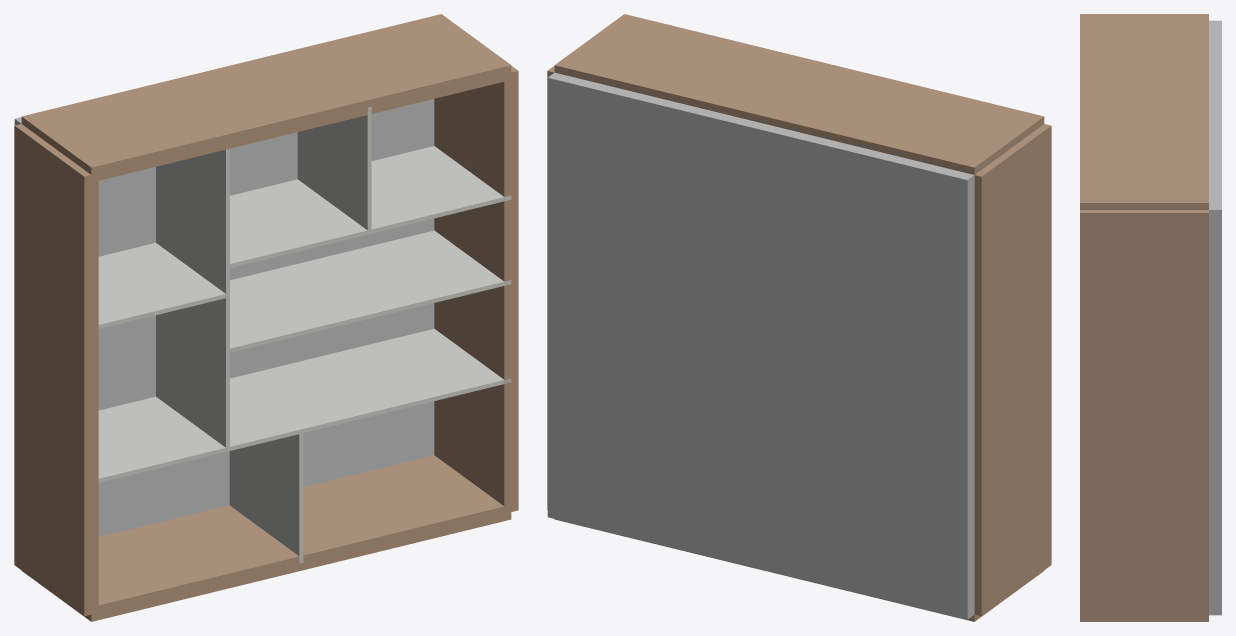
3 renders of one model, left to right at view 1: azimuth 30°, elevation 25°; view 2: azimuth 150°, elevation 25°; view 3: azimuth 270°, elevation 25°, orthographic. The views are drawn at different scales.
Visible parts, largest first — view 1: floor_slab, wall_3, wall_2, wall_0, wall_1, wall_5, wall_6, wall_12, wall_10, wall_8, wall_11, wall_13 (+5 smaller); view 2: floor_slab, wall_3, wall_2; view 3: wall_1, wall_2, floor_slab, wall_0.
Boxes of the visible parts, bbox=[...] form: floor_slab: bbox=[14, 99, 434, 536]; wall_3: bbox=[14, 124, 98, 616]; wall_2: bbox=[21, 14, 511, 182]; wall_0: bbox=[22, 455, 511, 621]; wall_1: bbox=[434, 66, 518, 513]; wall_5: bbox=[228, 230, 511, 353]; wall_6: bbox=[228, 328, 511, 451]; wall_12: bbox=[156, 295, 229, 448]; wall_10: bbox=[228, 179, 369, 268]; wall_8: bbox=[369, 146, 511, 233]; wall_11: bbox=[96, 243, 227, 329]; wall_13: bbox=[93, 396, 227, 482]; floor_slab: bbox=[547, 72, 974, 619]; wall_3: bbox=[974, 124, 1051, 616]; wall_2: bbox=[554, 14, 1044, 174]; wall_1: bbox=[1080, 210, 1208, 618]; wall_2: bbox=[1080, 14, 1208, 209]; floor_slab: bbox=[1209, 20, 1221, 615]; wall_0: bbox=[1080, 618, 1208, 621].
Bounding box in the file's own units: 10.75 × 10.75 × 3.3.
